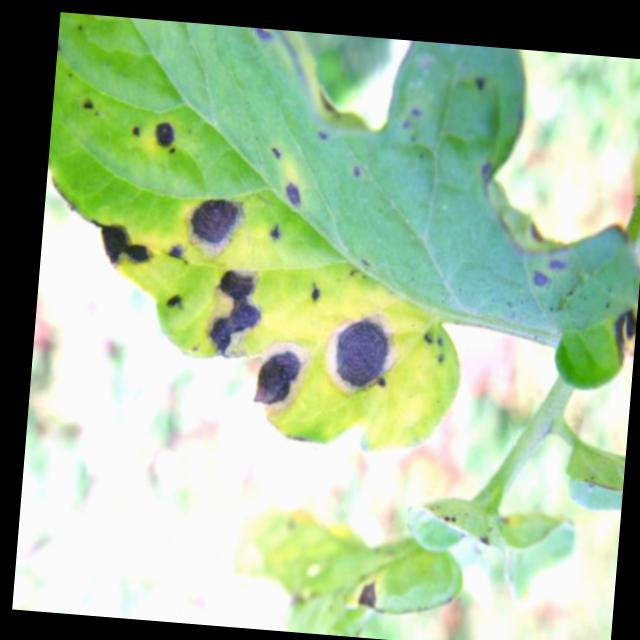Early_blight: (318, 308, 400, 403), (246, 339, 318, 424), (204, 266, 265, 361), (182, 194, 252, 261), (83, 218, 158, 277), (606, 305, 636, 371), (528, 256, 567, 294), (151, 120, 180, 161), (352, 577, 383, 614), (280, 177, 306, 213), (304, 279, 326, 305), (249, 27, 276, 48), (167, 243, 186, 268), (267, 218, 282, 246), (80, 94, 97, 118), (165, 294, 188, 311), (315, 128, 331, 146), (129, 124, 144, 140), (473, 77, 488, 93), (268, 148, 283, 163), (348, 168, 360, 182)
